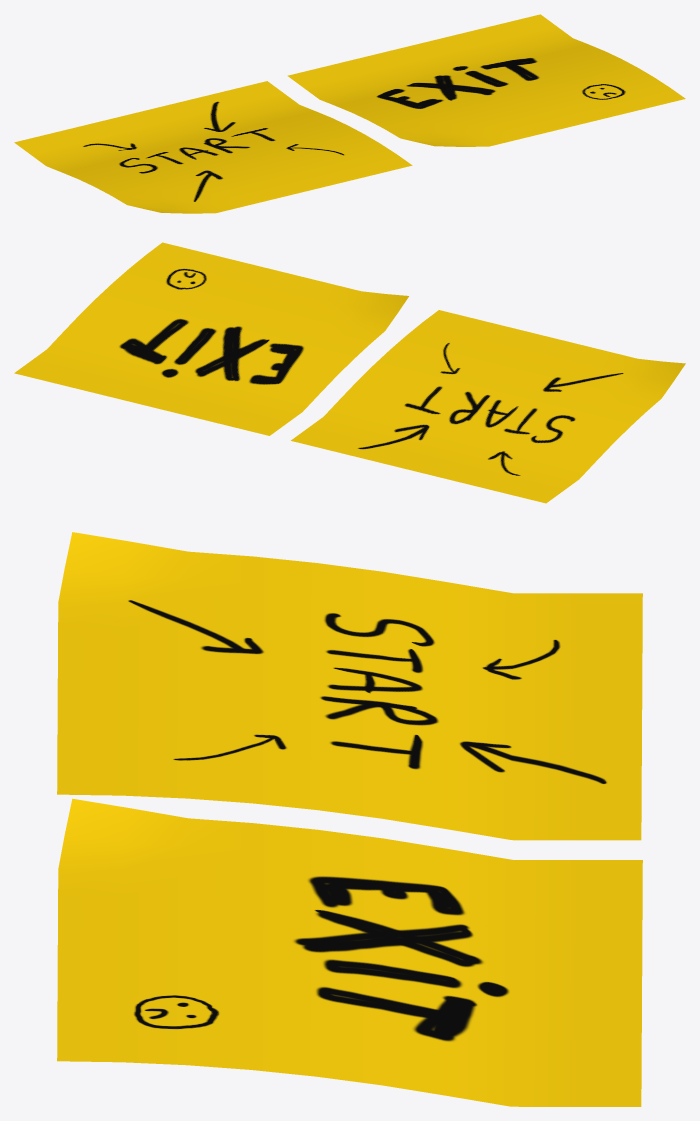
The model's file is postIt_menu.fbx.
3 renders of one model, top to bottom at view 1: azimuth 30°, elevation 25°; view 2: azimuth 150°, elevation 25°; view 3: azimuth 270°, elevation 25°, orthographic. The views are drawn at different scales.
Parts seen in each view (by area): view 1: postIt_Start, postIt_Exit; view 2: postIt_Start, postIt_Exit; view 3: postIt_Start, postIt_Exit.
Part boxes in pixels (x1,y1,x2,y2): postIt_Start: (14, 81, 412, 213); postIt_Exit: (287, 14, 685, 146); postIt_Start: (291, 310, 685, 503); postIt_Exit: (14, 242, 408, 435); postIt_Start: (57, 532, 642, 840); postIt_Exit: (57, 798, 642, 1106).
Bounding box in the file's own units: 66.28 × 3.95 × 31.92.
